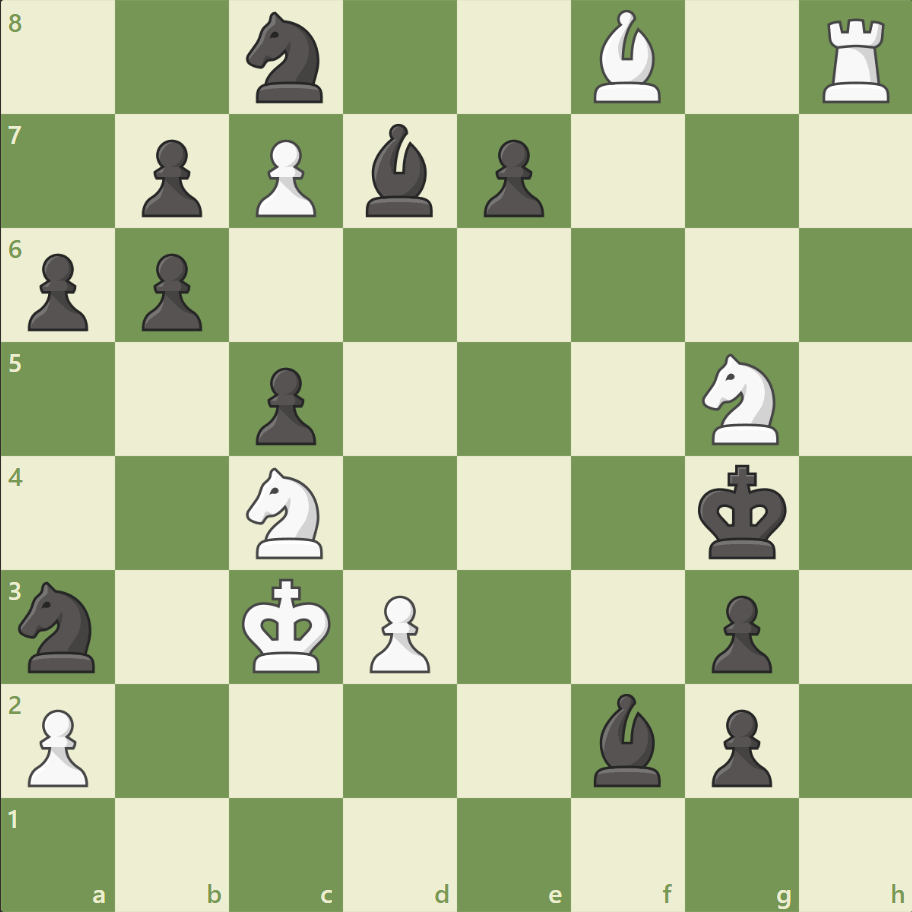B: (585, 6, 669, 109)
K: (238, 571, 338, 679)
N: (238, 461, 335, 564), (692, 348, 789, 450)
P: (247, 132, 322, 223), (20, 700, 95, 791), (361, 586, 435, 677)
R: (814, 12, 897, 109)
b: (585, 687, 669, 790), (358, 120, 442, 222)
k: (692, 458, 792, 566)
n: (238, 7, 335, 110), (11, 575, 108, 677)
p: (133, 132, 208, 223), (474, 132, 549, 223), (20, 246, 95, 337), (133, 246, 208, 337), (247, 359, 322, 450), (701, 586, 776, 677), (701, 700, 776, 791)
